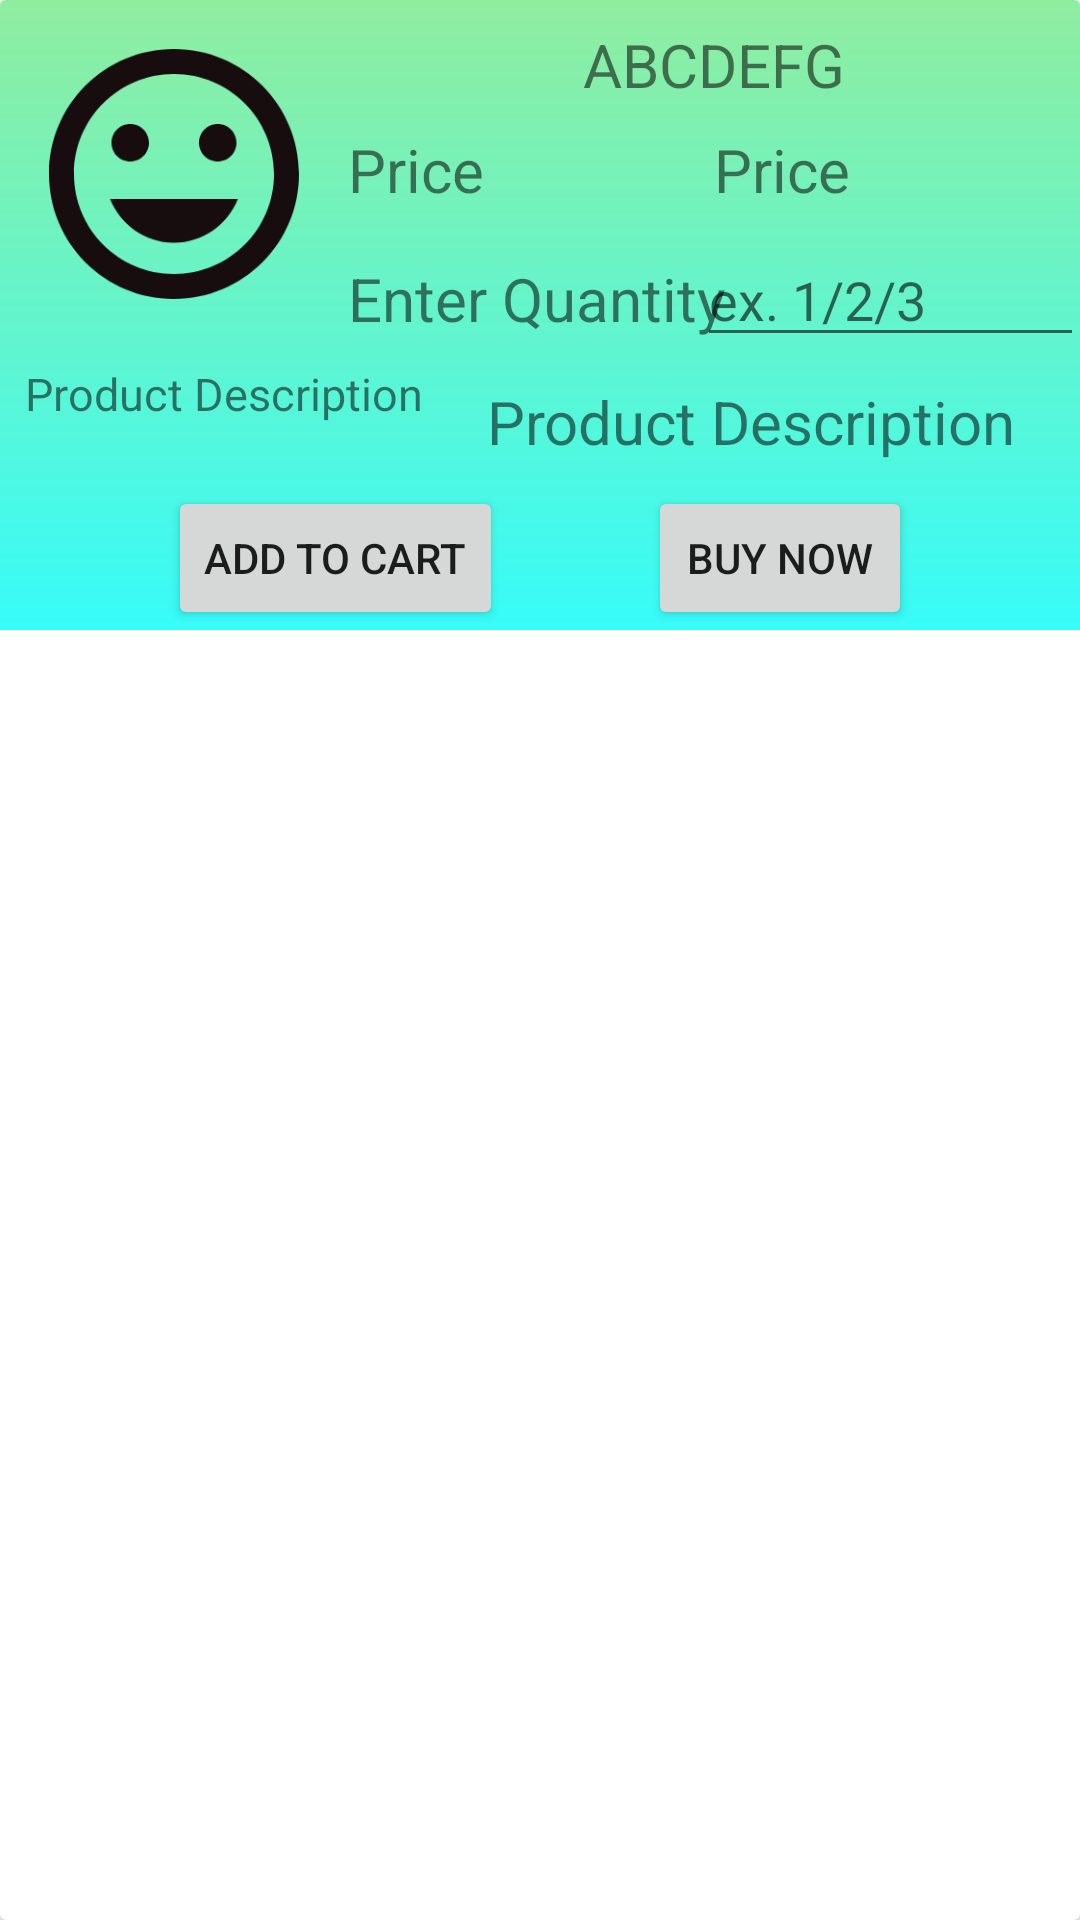

Screen size 1080w x 1920h. Icon name, then its center in pixels as point (x, y):
mood: point (174, 174)
